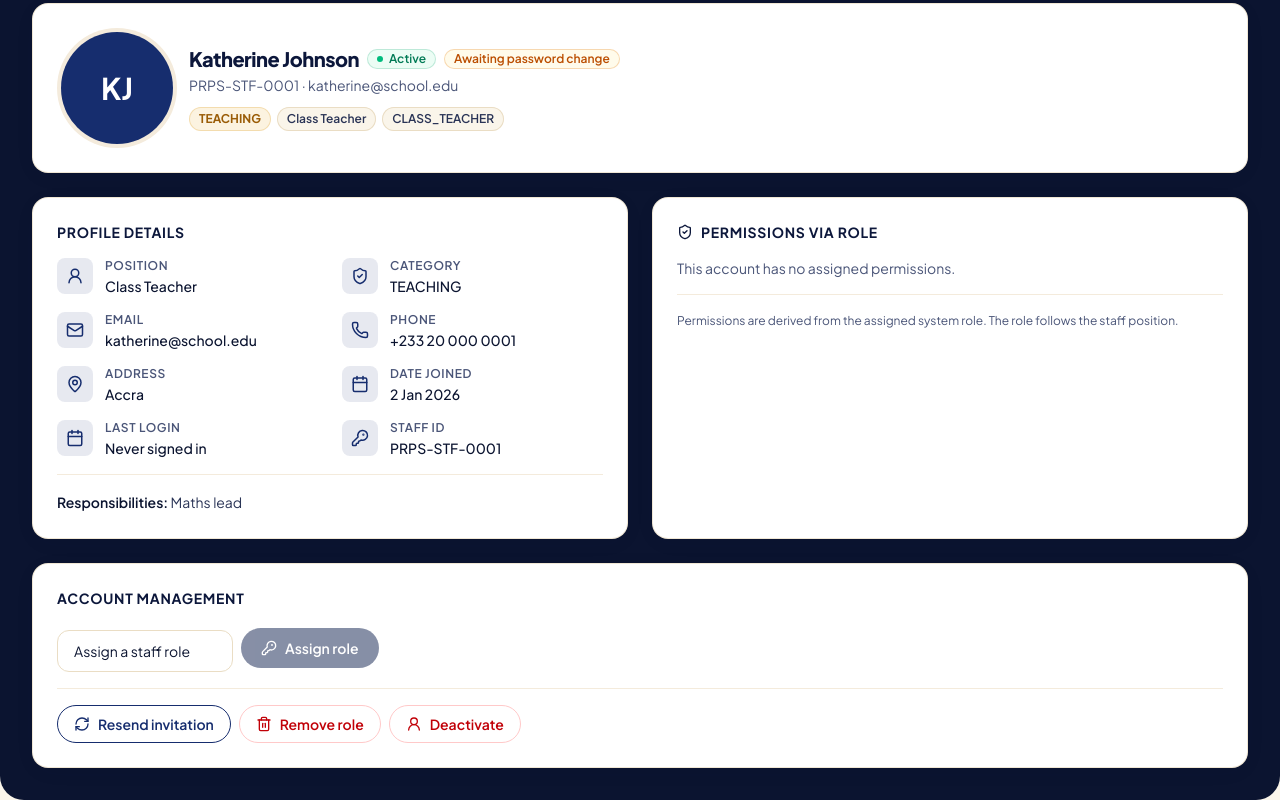
StaffProfilePage › resends the invitation and reports the fresh delivery status
(page scrolled)
Check: the text "Katherine Johnson" is shown, box [189, 45, 359, 73]
Click the button "Resend invitation" at (144,724), box [57, 704, 231, 742]
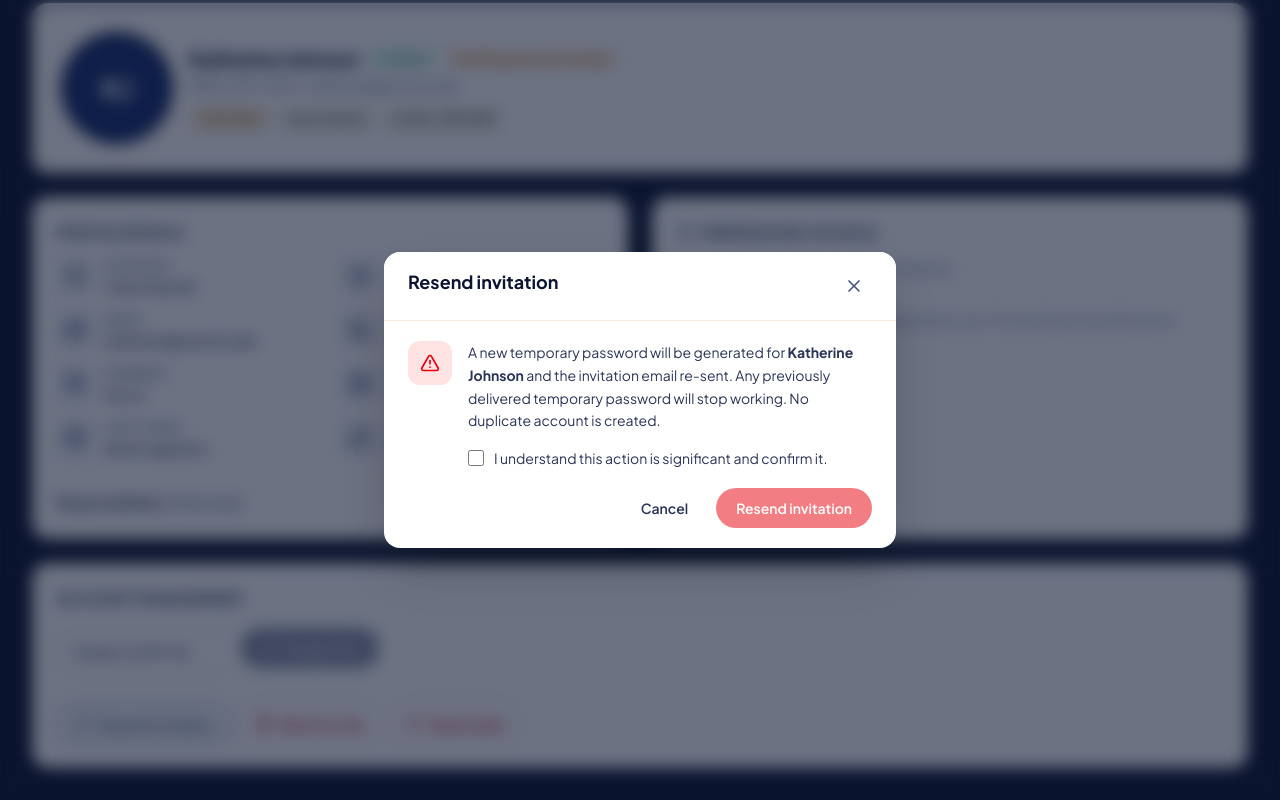
Click the checkbox labelled "I understand this action is significant and confirm it." at (476,458), box [468, 450, 484, 466]
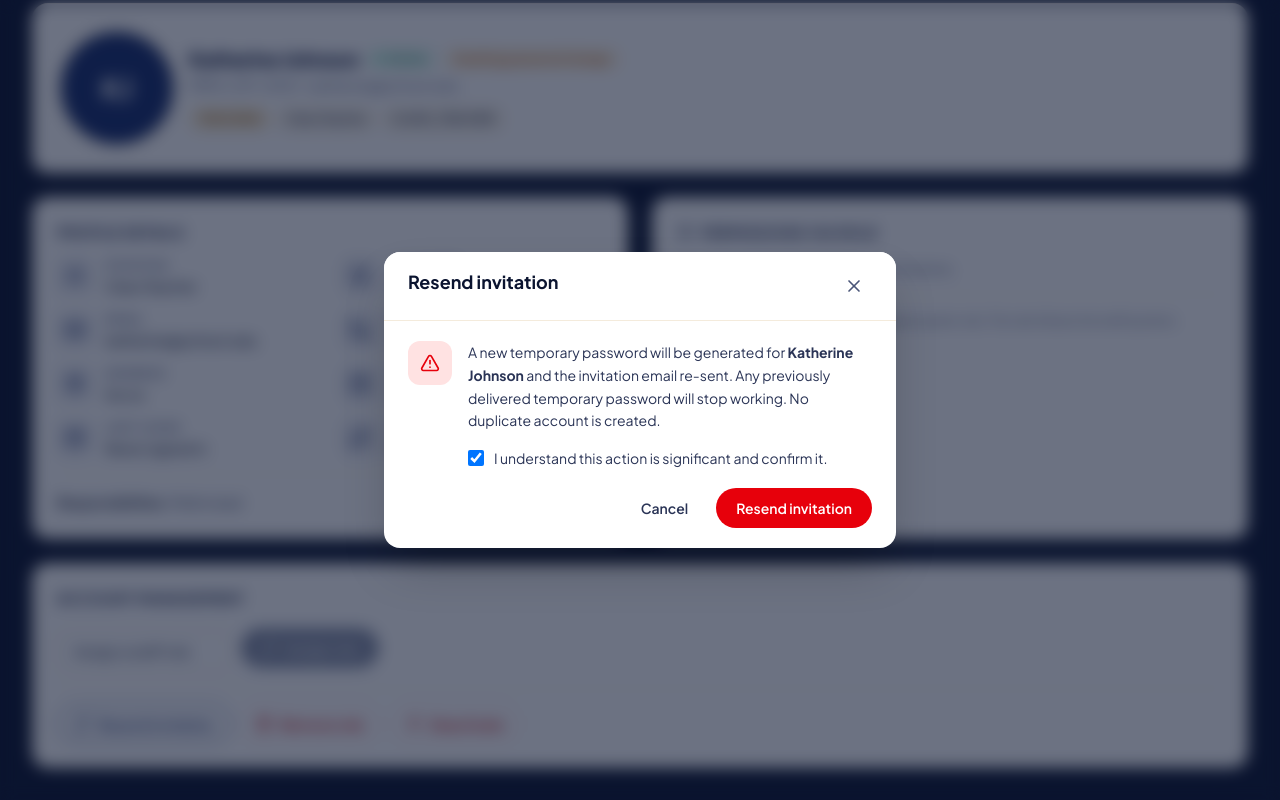
Click the button "Resend invitation" at (794,508), box [716, 488, 872, 528]
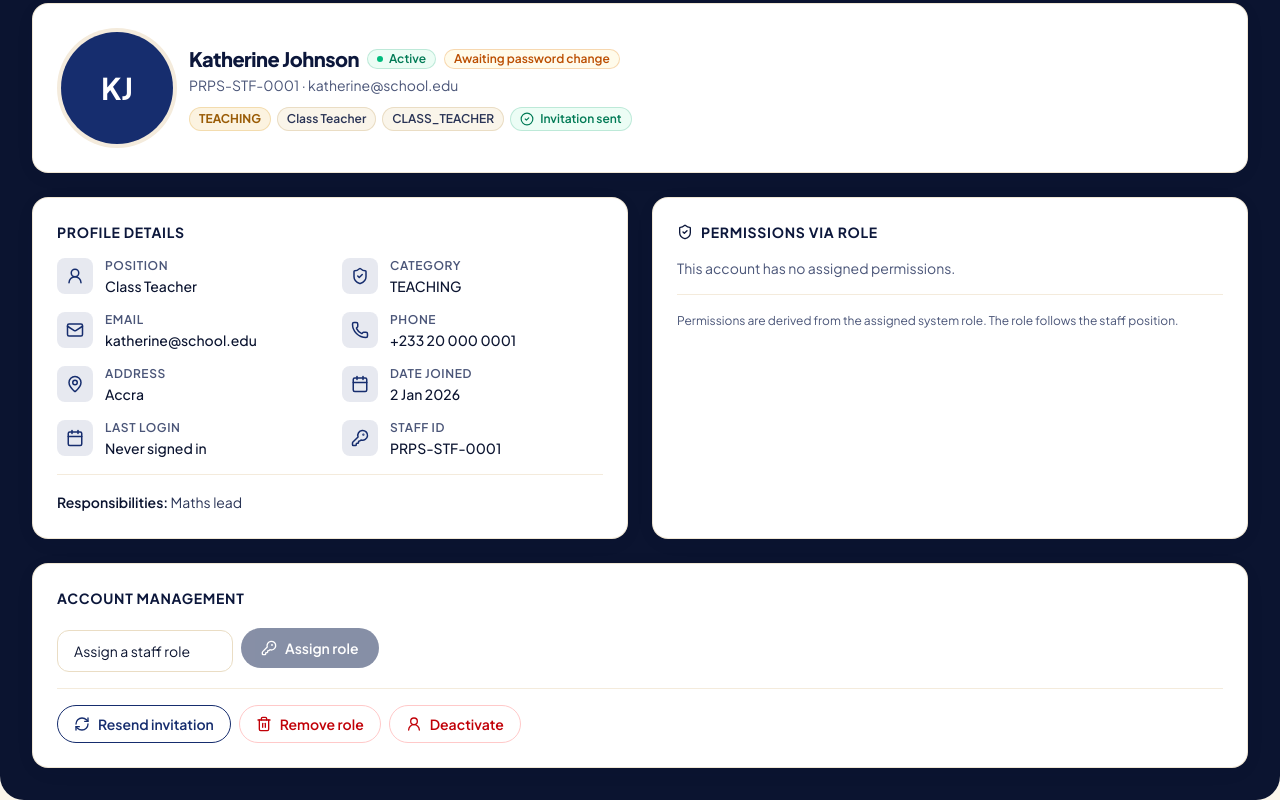
Check: the text "Invitation sent" is shown, box [510, 107, 632, 131]
